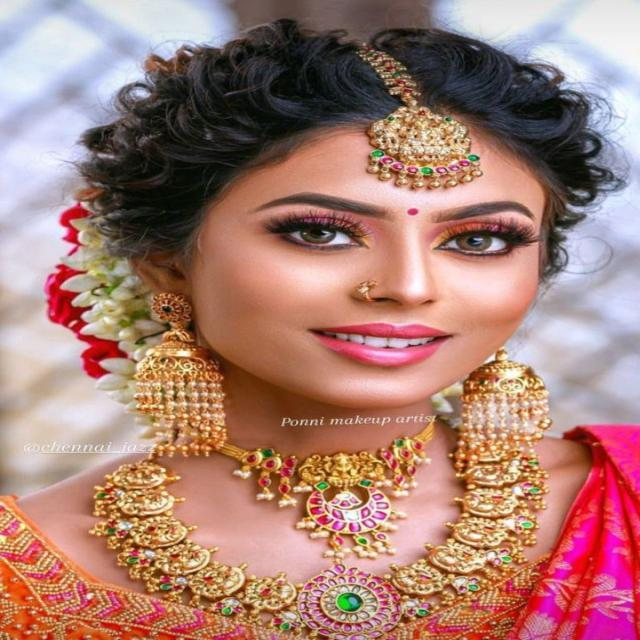Earring: (125, 288, 239, 463), (451, 332, 573, 474)
